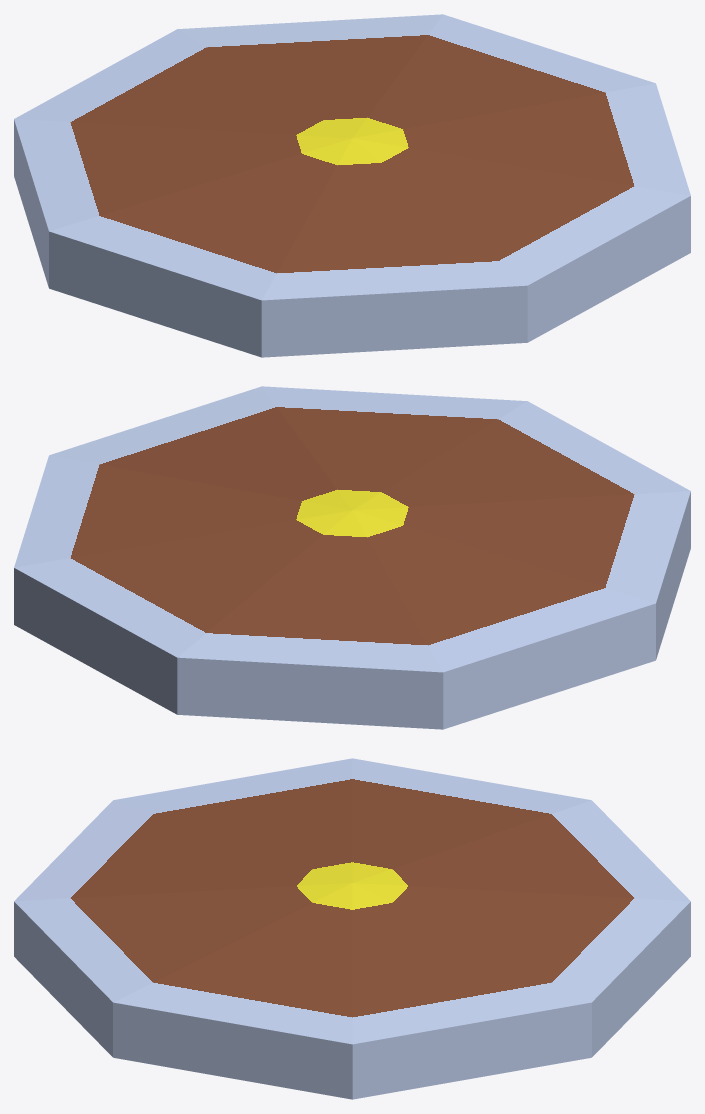
File: shield.glb
3 views of the same model, one above another, from view 1: azimuth 30°, elevation 25°; view 2: azimuth 150°, elevation 25°; view 3: azimuth 270°, elevation 25° (orthographic). The views are drawn at different scales.
Visible parts, largest first — view 1: Shield; view 2: Shield; view 3: Shield.
Boxes of the visible parts, x1,y1,x2,y2 form: Shield: [14, 14, 690, 357]; Shield: [14, 386, 690, 729]; Shield: [14, 758, 690, 1099].
Size of the model in its own units: 0.8 by 0.096 by 0.8.
1 material, 1 textured.
